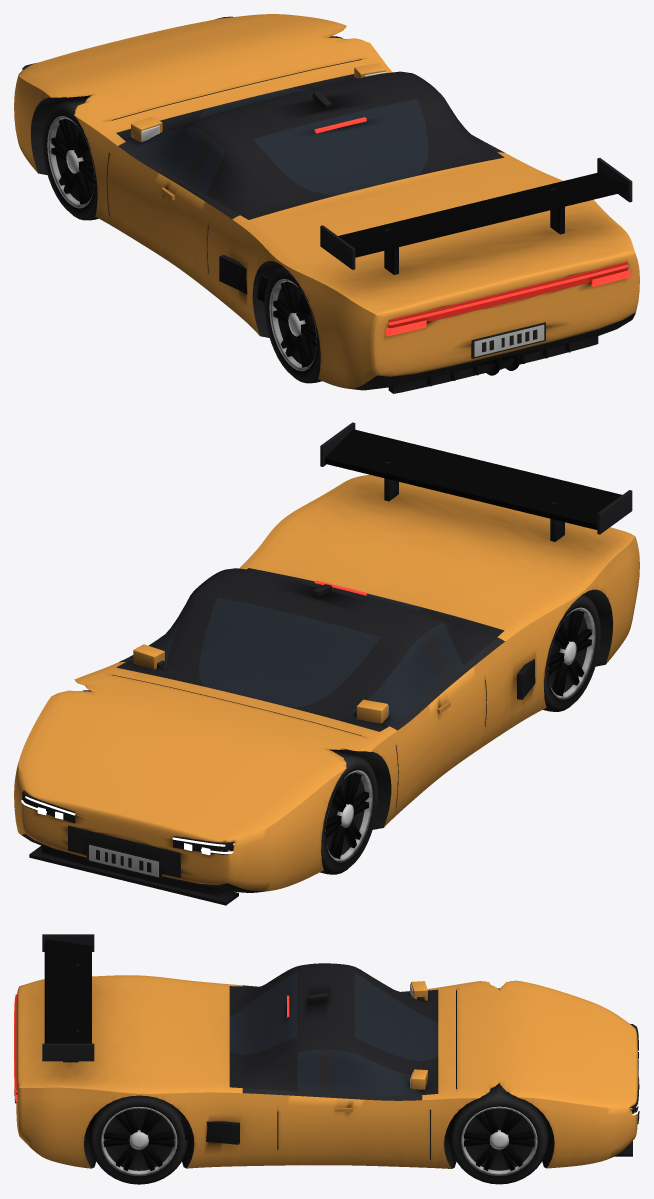
File: vortex.glb
3 views of the same model, one above another, from view 1: azimuth 30°, elevation 25°; view 2: azimuth 150°, elevation 25°; view 3: azimuth 270°, elevation 25° (orthographic). The views are drawn at different scales.
Parts seen in each view (by area): view 1: Body, Details, Wheel_FL, Wheel_RL, Rounded; view 2: Body, Details, Wheel_FL, Wheel_RL, Rounded; view 3: Body, Details, Wheel_FR, Wheel_RR, Rounded.
Part boxes in pixels (left/top/right/bottom): Body: left=14, top=14, right=639, bottom=390; Details: left=22, top=16, right=632, bottom=393; Wheel_FL: left=42, top=95, right=98, bottom=220; Wheel_RL: left=264, top=265, right=322, bottom=383; Rounded: left=131, top=63, right=386, bottom=142; Body: left=14, top=474, right=639, bottom=892; Details: left=21, top=422, right=632, bottom=905; Wheel_FL: left=320, top=749, right=377, bottom=874; Wheel_RL: left=543, top=594, right=600, bottom=711; Rounded: left=133, top=584, right=388, bottom=723; Body: left=16, top=963, right=638, bottom=1168; Details: left=14, top=934, right=639, bottom=1156; Wheel_FR: left=449, top=1083, right=548, bottom=1184; Wheel_RR: left=89, top=1095, right=188, bottom=1184; Rounded: left=307, top=981, right=427, bottom=1089.
Size of the model in its own units: 2.17 by 1.2 by 4.8.
